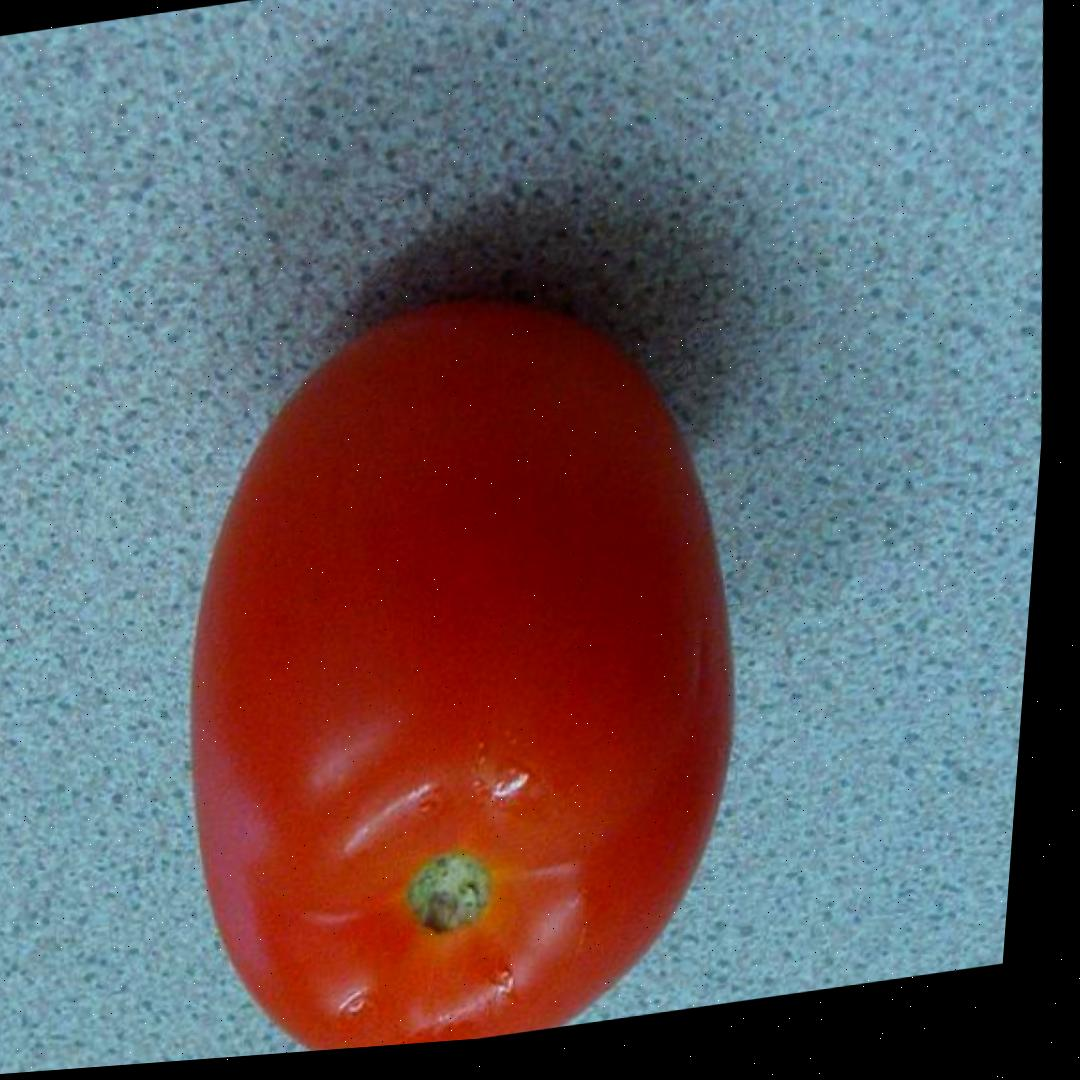matang: (138, 256, 792, 1064)
